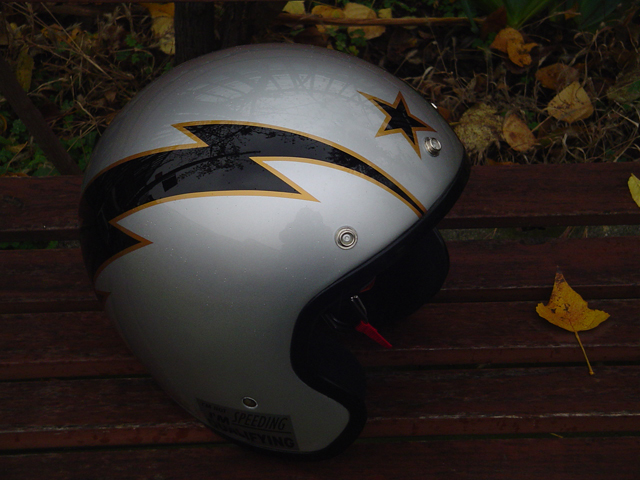helmet: (78, 64, 475, 430)
